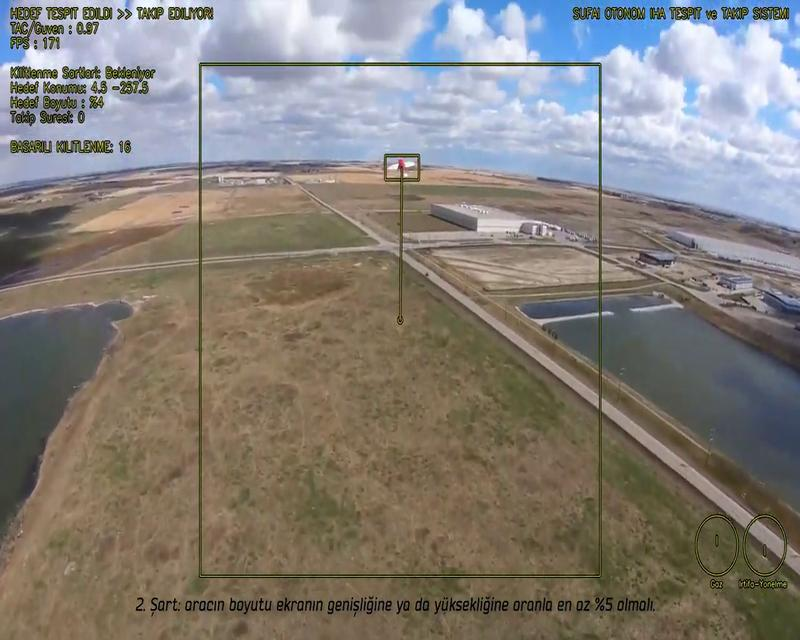UAV: (386, 156, 416, 179)
